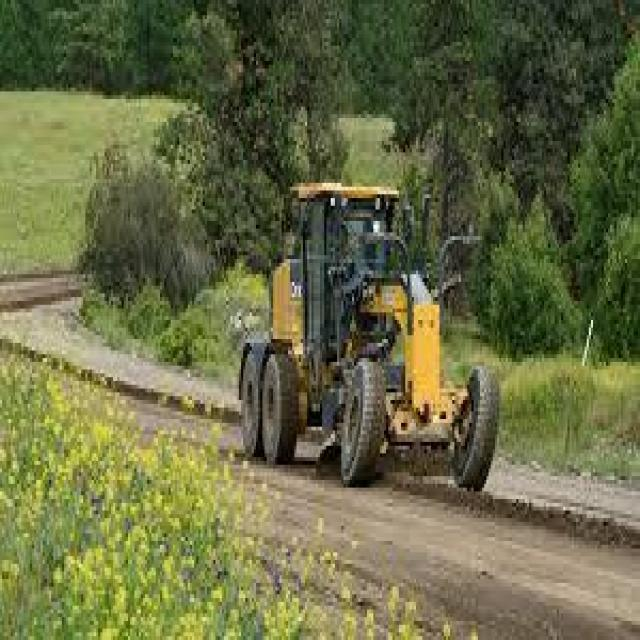Grader: (224, 152, 535, 530)
